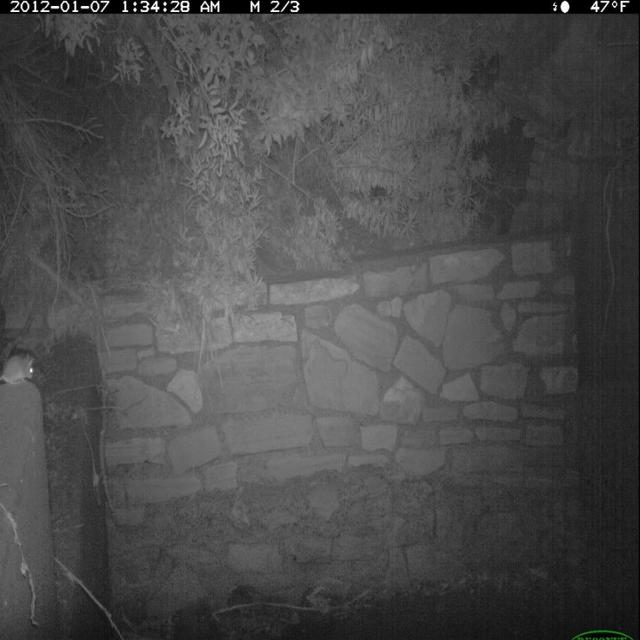rodent: (3, 347, 46, 402)
